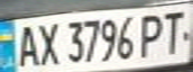3: (60, 17, 84, 64)
6: (115, 11, 142, 61)
7: (81, 16, 103, 64)
9: (100, 15, 121, 62)
A: (12, 20, 42, 69)
P: (136, 10, 169, 58)
T: (157, 7, 190, 56)
X: (33, 18, 60, 66)
